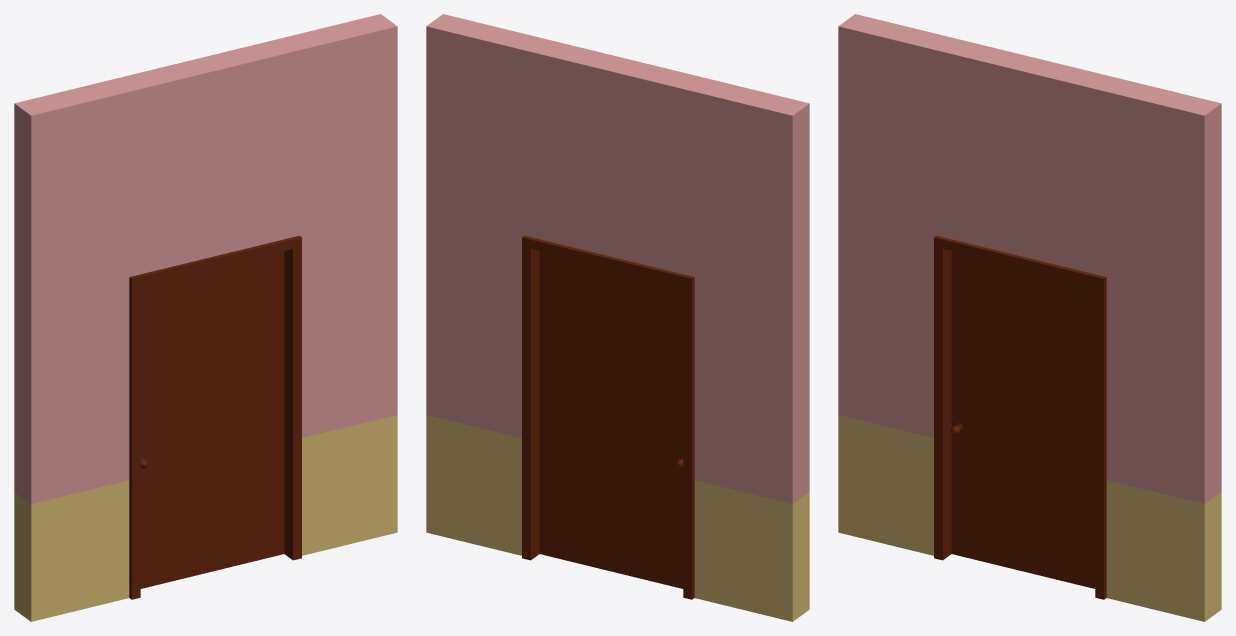
Rendered from wall_door2.fbx.
3 renders of one model, left to right at view 1: azimuth 30°, elevation 25°; view 2: azimuth 150°, elevation 25°; view 3: azimuth 330°, elevation 25°, orthographic.
Parts seen in each view (by area): view 1: wall_door2.001, door2; view 2: wall_door2.001, door2; view 3: wall_door2.001, door2.
Boxes of the visible parts, <box> form: wall_door2.001: <box>14,14,397,621</box>; door2: <box>140,251,284,588</box>; wall_door2.001: <box>426,14,809,621</box>; door2: <box>539,251,683,588</box>; wall_door2.001: <box>838,14,1221,621</box>; door2: <box>950,251,1095,588</box>.
Bounding box in the file's own units: 211 × 279 × 21.77.
